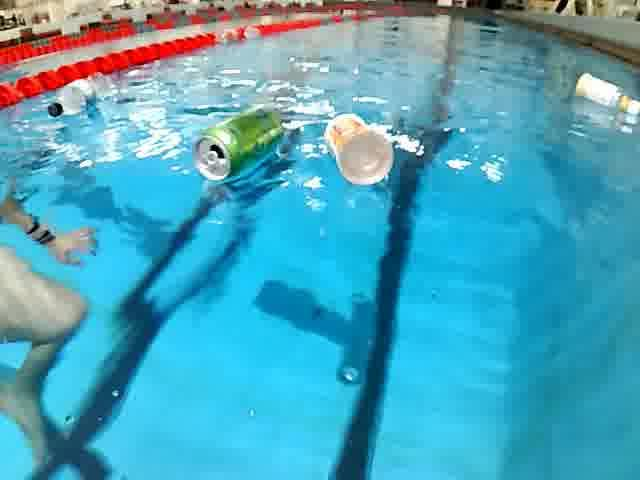Bottle: (320, 110, 404, 190), (42, 70, 124, 122), (569, 70, 640, 119)
Can: (183, 109, 289, 188)
